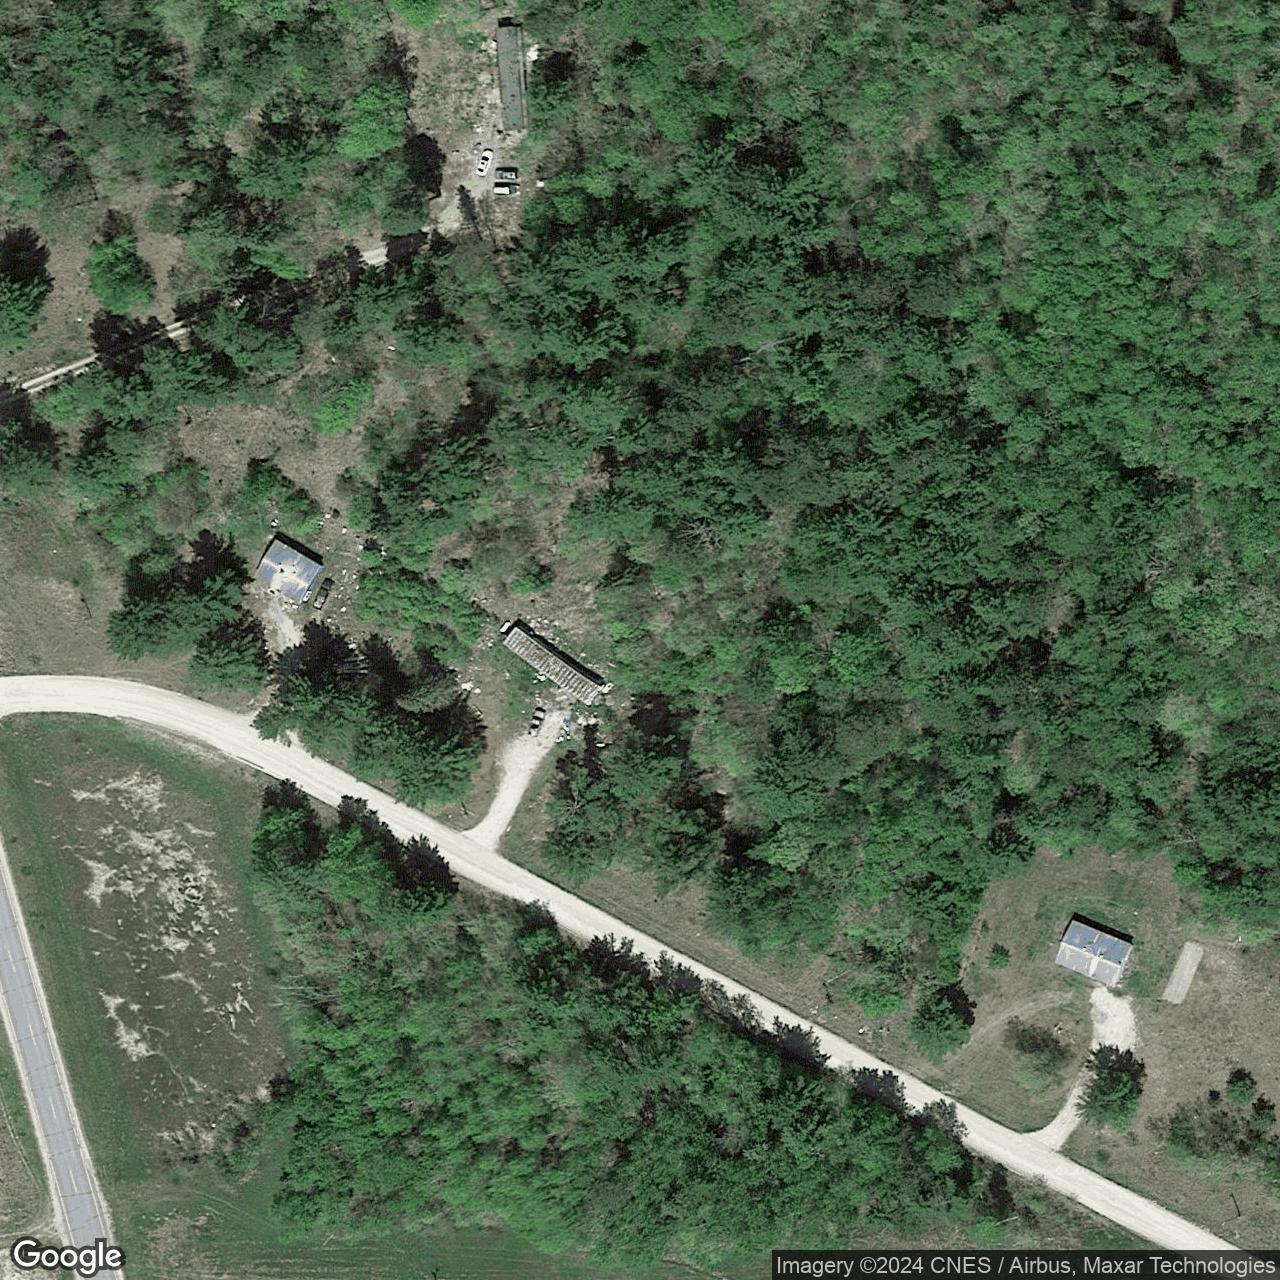House: (1053, 918, 1135, 990), (252, 538, 325, 605)
Propane: (497, 617, 513, 634)
Trailer: (502, 625, 602, 706), (493, 23, 529, 131)
